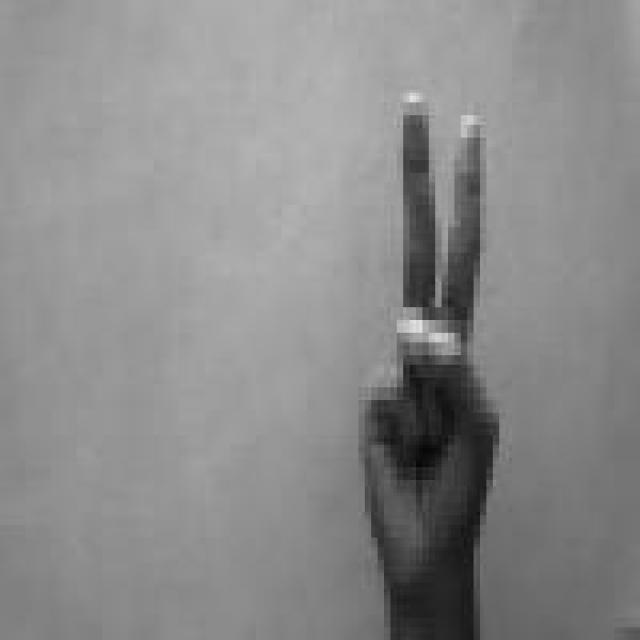V: (355, 87, 506, 586)
